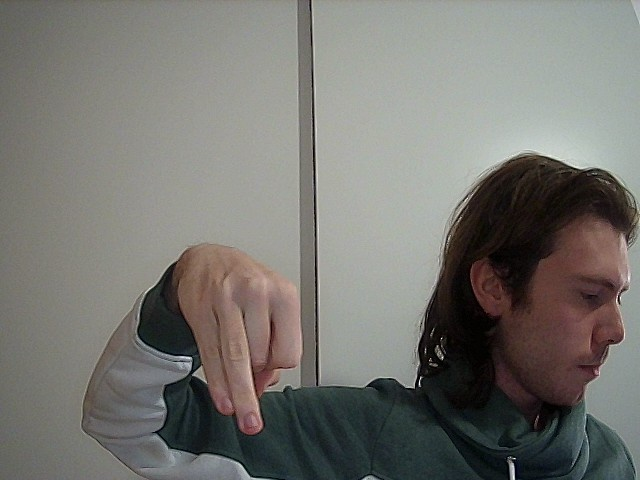n: (155, 232, 316, 441)
